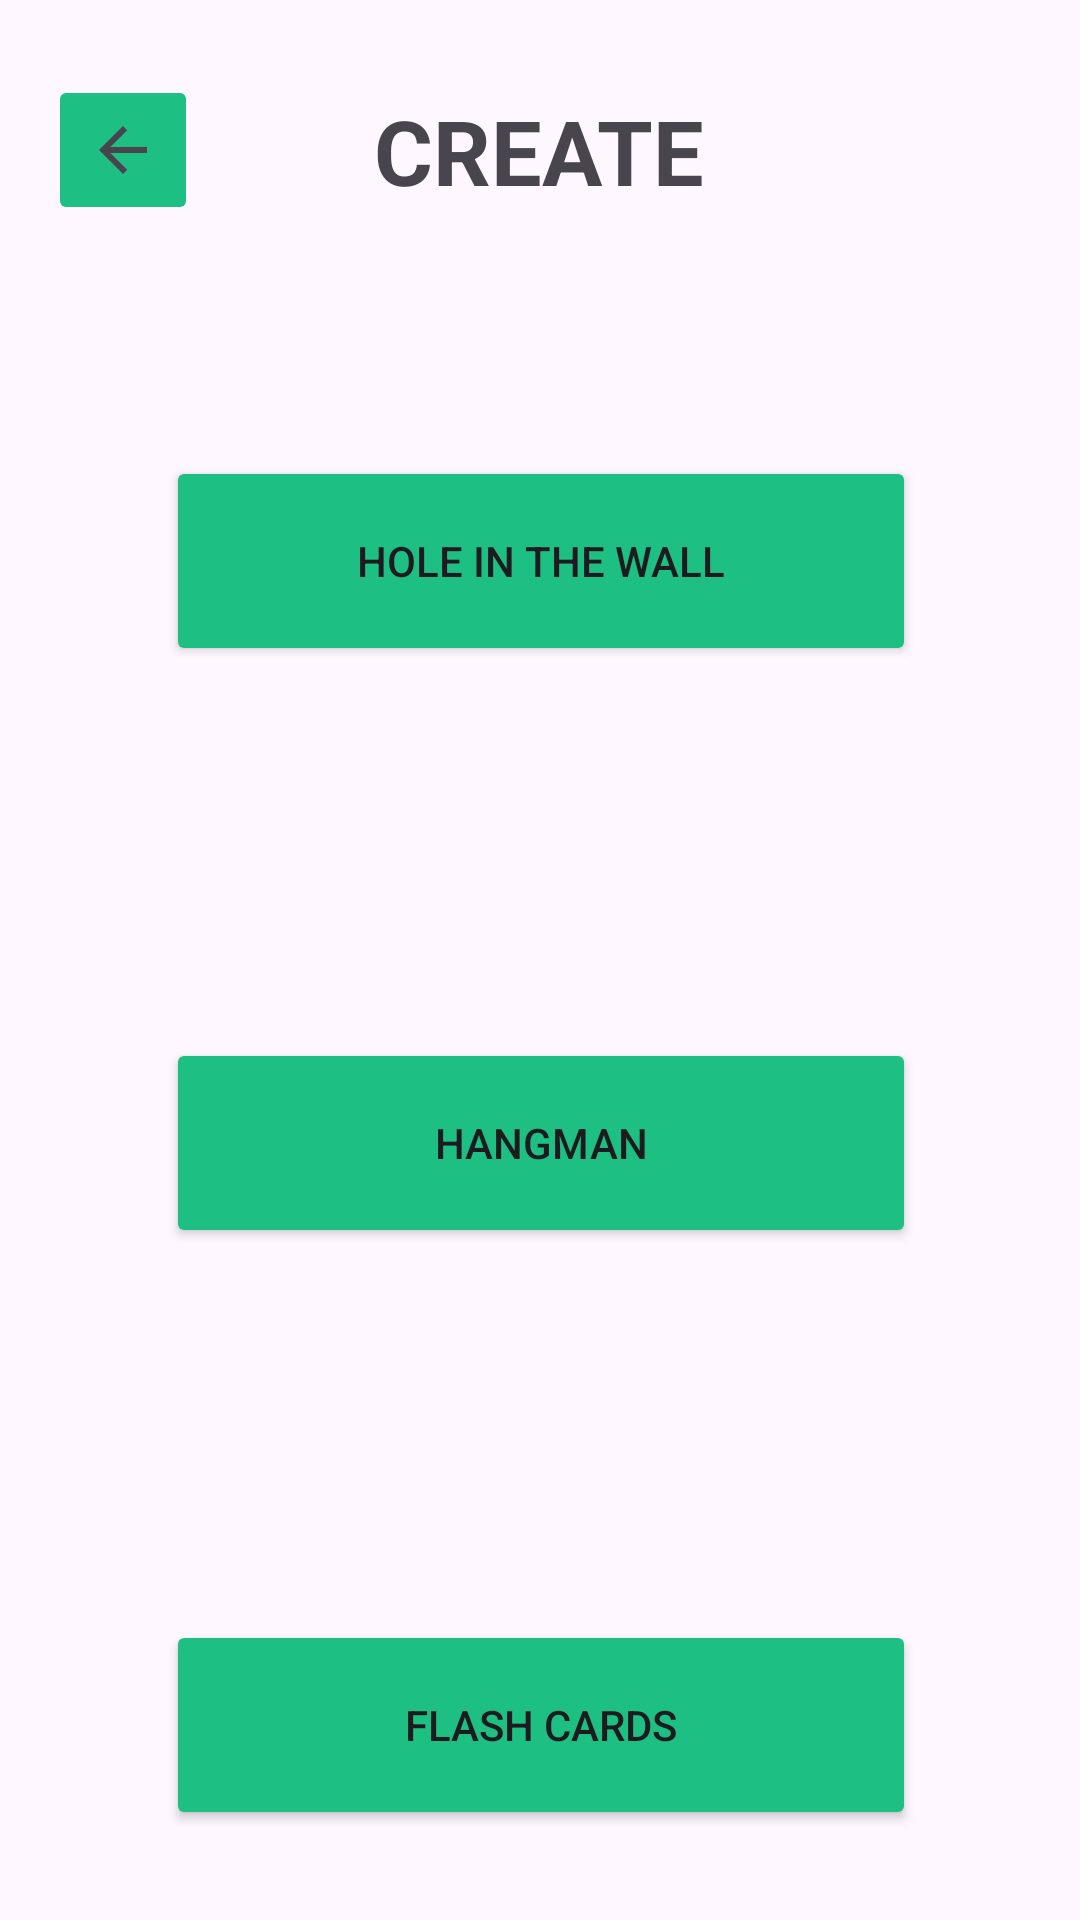

Locate icon controls on the screen. Image size 1080 × 1920, boxes as (x1, y1, x2, y2).
Back To Home: (60, 93, 186, 207)
